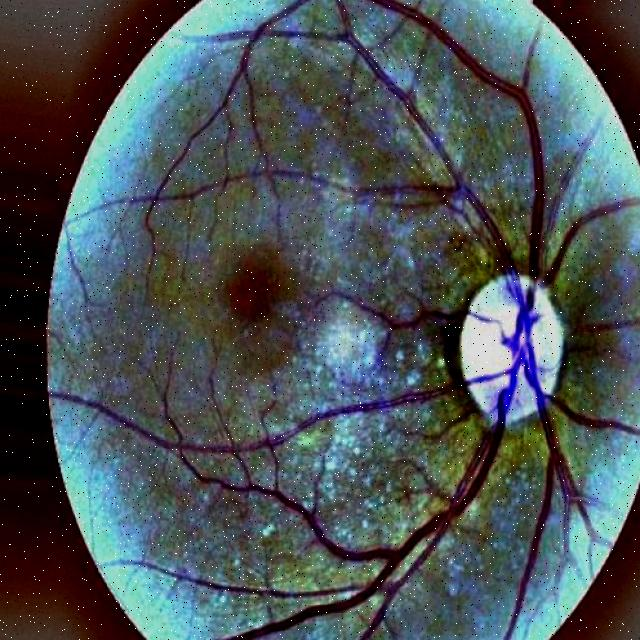Nerves: (48, 0, 640, 640)
Optic Disk: (459, 274, 564, 423)
